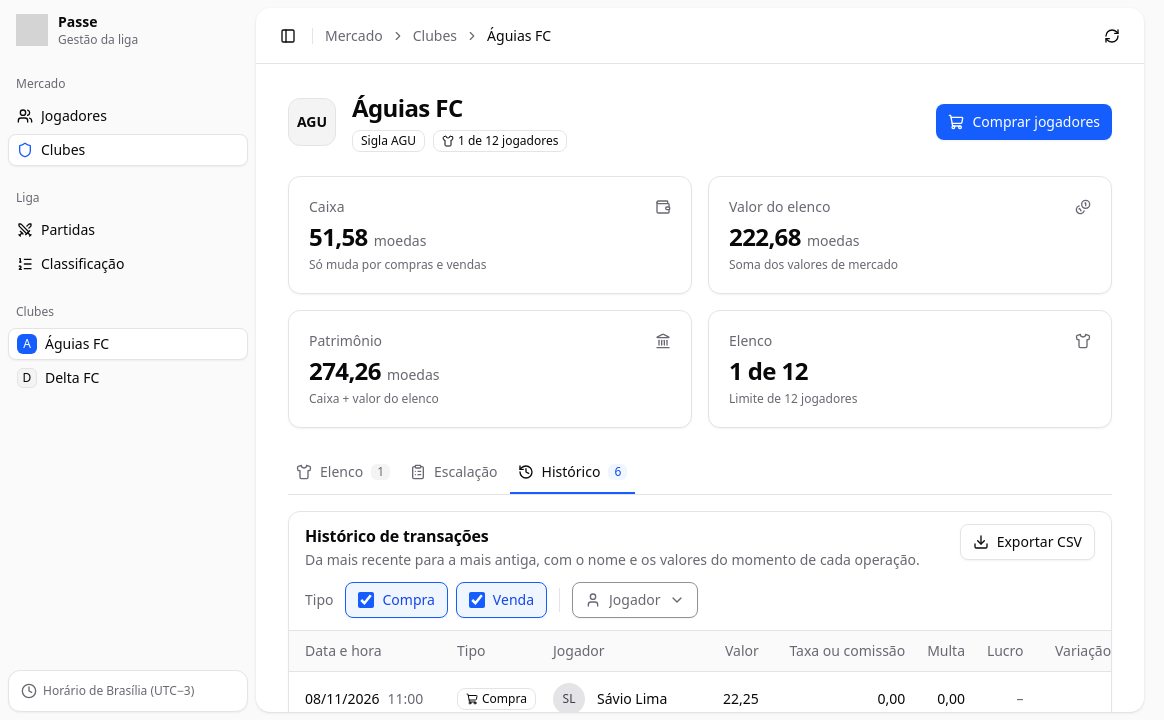
it: abas da página do clube › os filtros continuam ao voltar ao Histórico; outro clube pelo menu começa sem filtros
The width and height of the screenshot is (1164, 720).
Click the checkbox labelled "Compra" at point(366, 600), box [358,592,374,608]
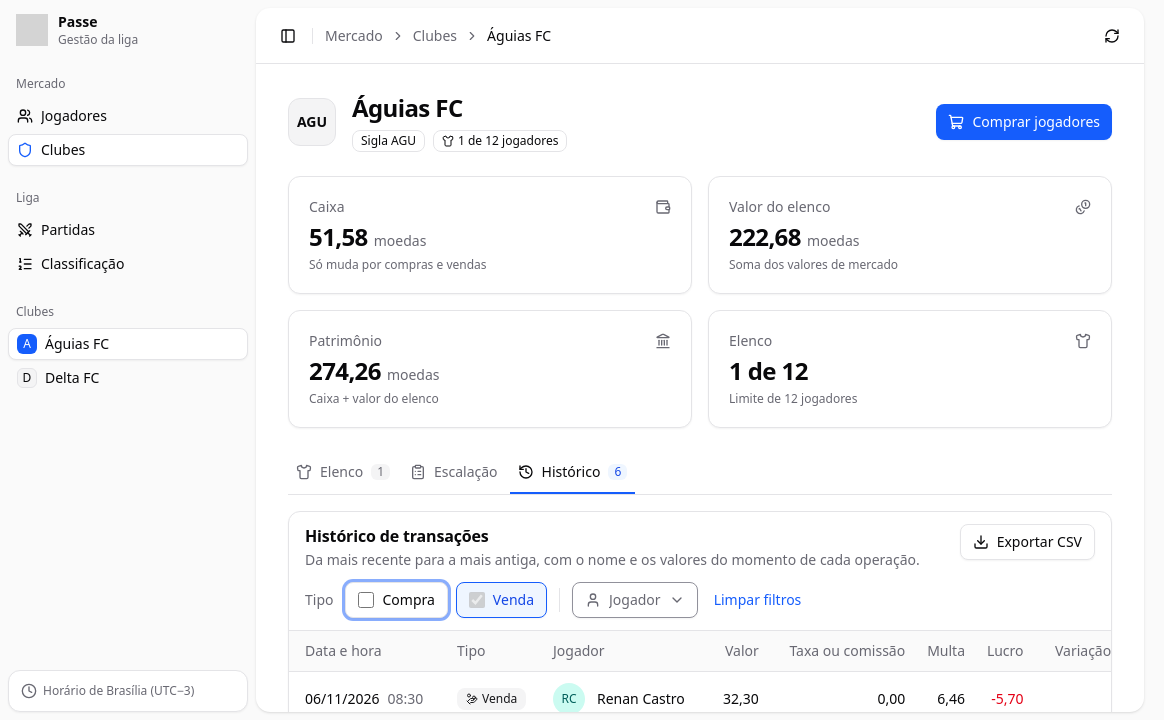
Click the tab "Elenco 1" at point(343, 473), box [288,452,398,494]
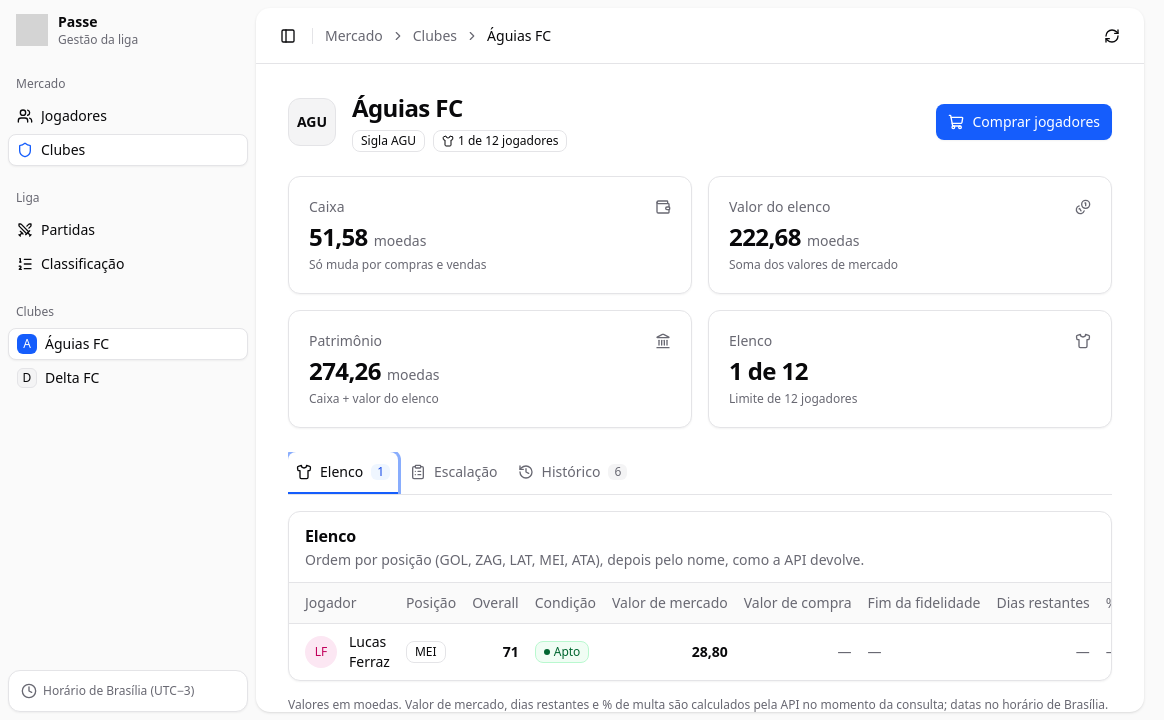
Click the tab "Histórico 6" at point(572, 473), box [510,452,635,494]
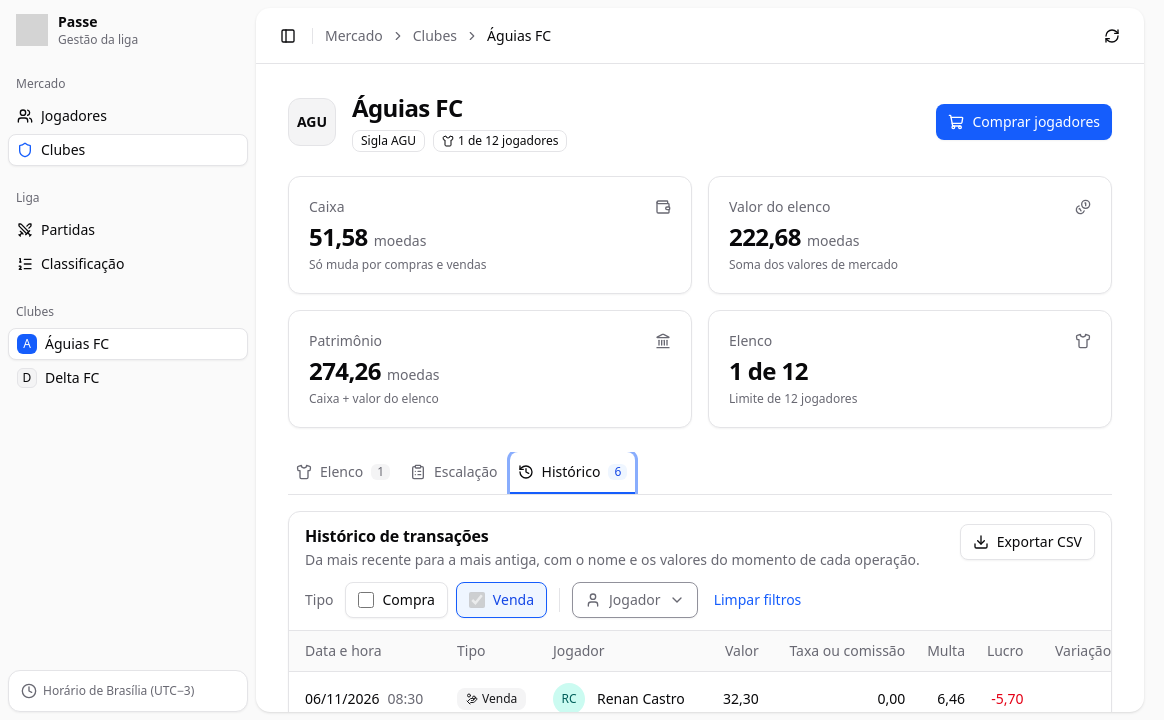
Now the checkbox labelled "Compra" is not checked, box [358,592,374,608]
Click the link "D Delta FC" at point(58, 378), box [17,368,99,388]
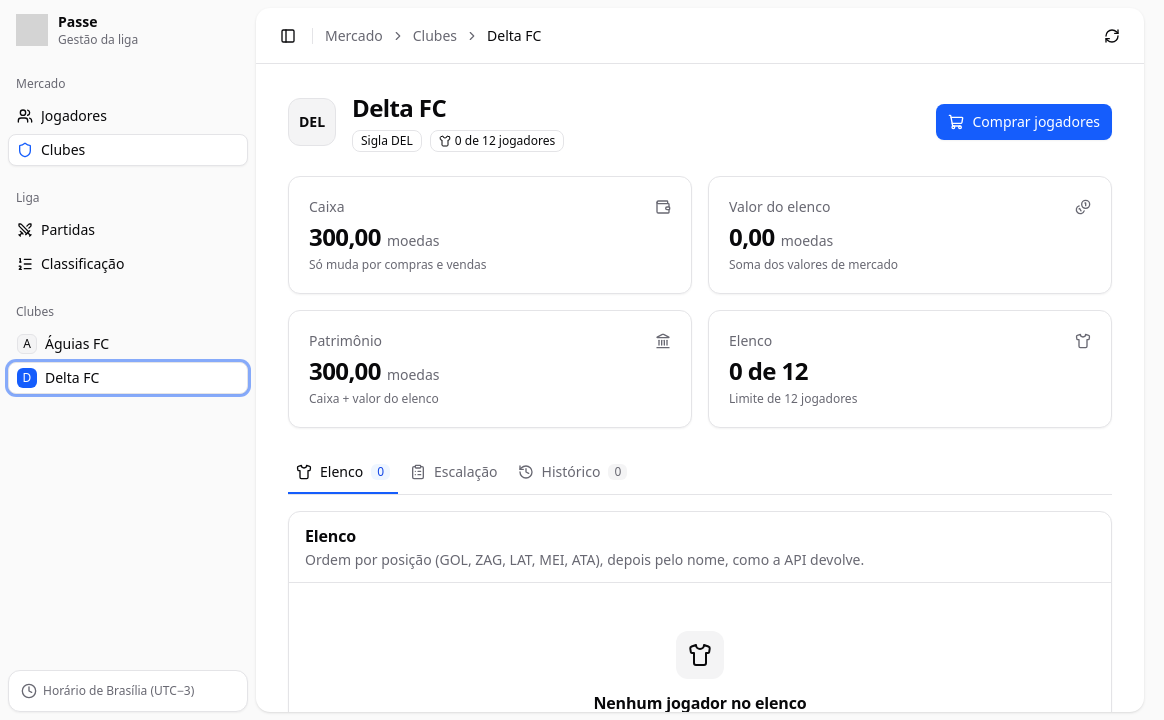
Now the heading "Delta FC" is shown, box [352,91,446,124]
